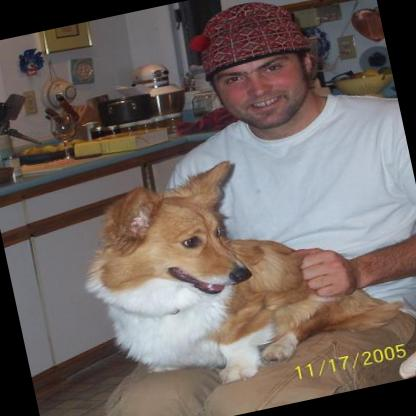Pembroke: (61, 124, 414, 408)
